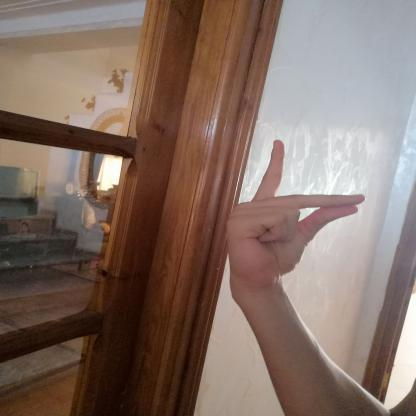TAA: (208, 132, 376, 294)
